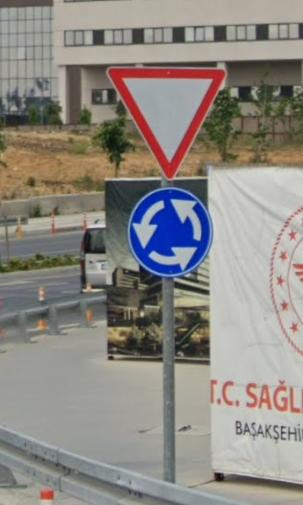crossroads: (131, 190, 213, 275)
